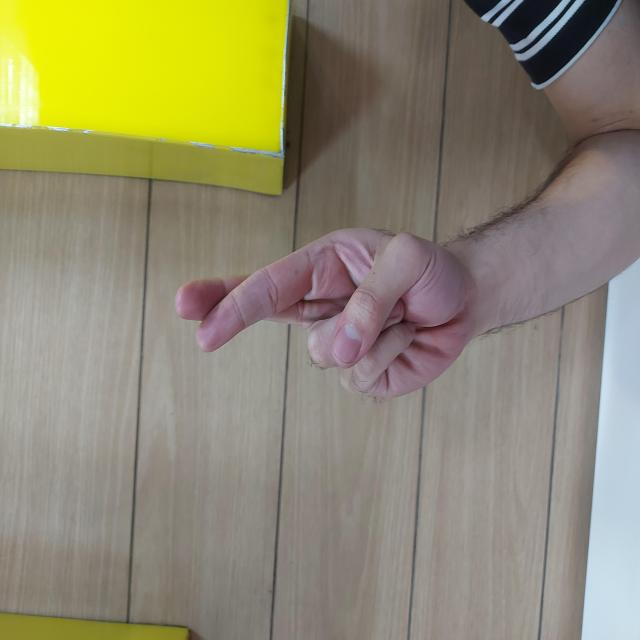R: (238, 172, 417, 472)
